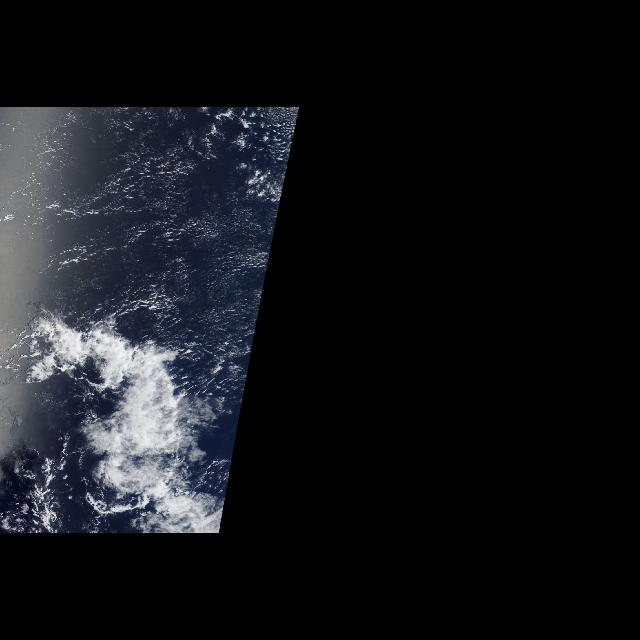Sugar: (13, 108, 299, 350)
